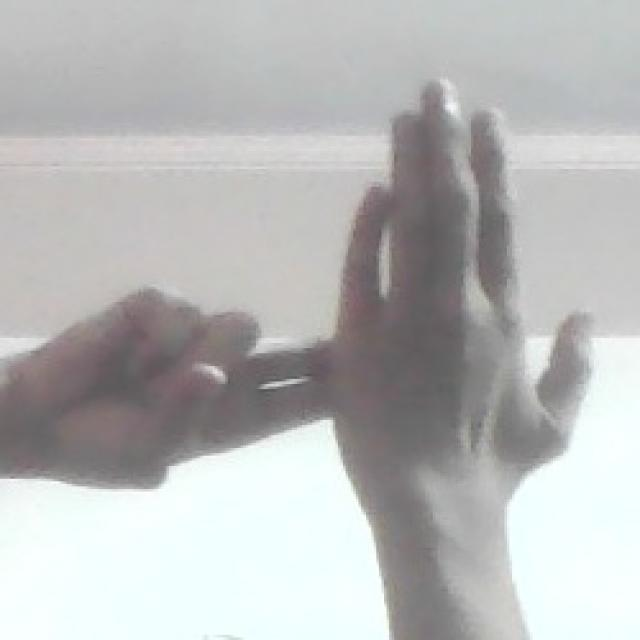Alphabet-N: (0, 66, 609, 509)
